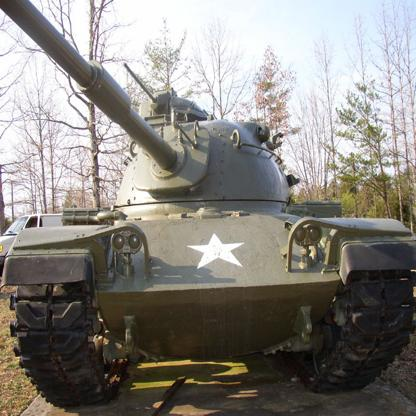Tank: (1, 40, 416, 408)
